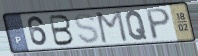6: (27, 15, 49, 48)
B: (48, 14, 76, 48)
M: (95, 9, 130, 45)
P: (145, 7, 172, 42)
Q: (124, 10, 149, 42)
S: (74, 12, 101, 45)
